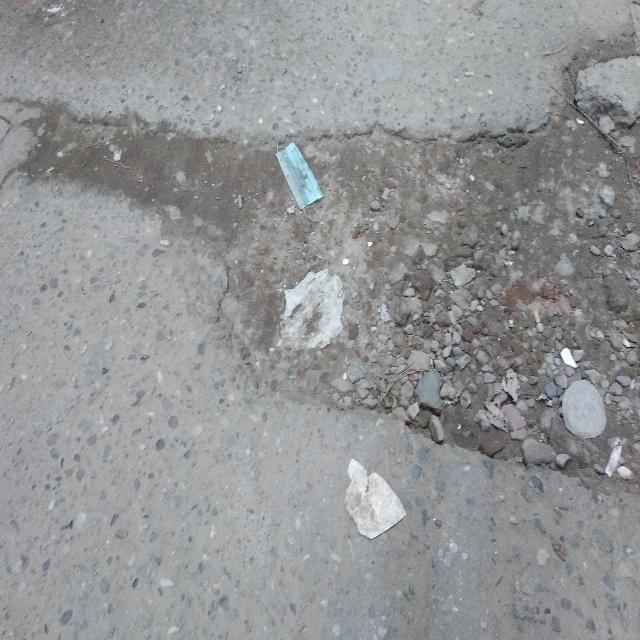Surface Erosion: (22, 61, 640, 524)
